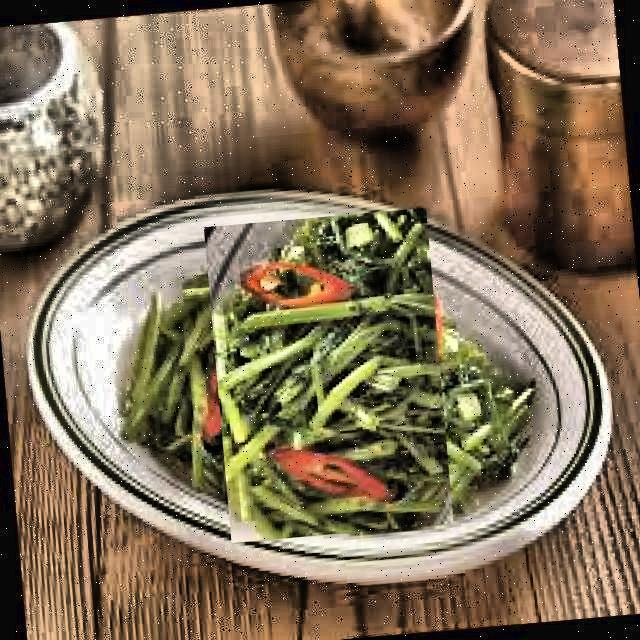Food: (182, 229, 475, 522)
